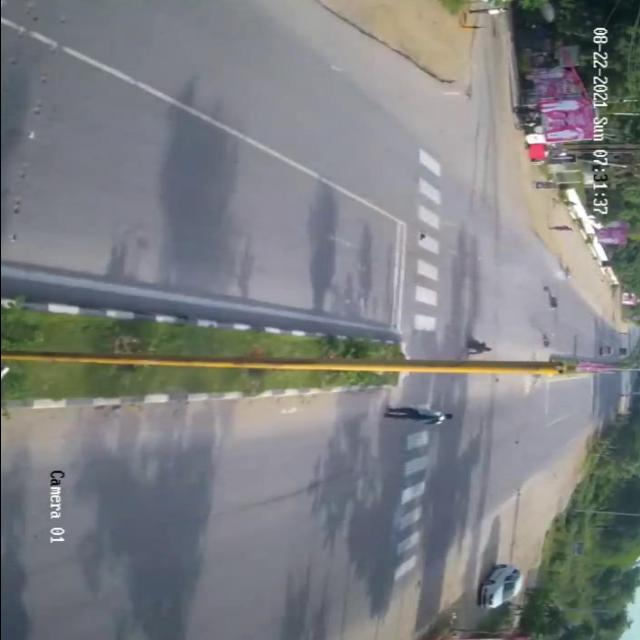accident: (534, 256, 578, 356)
